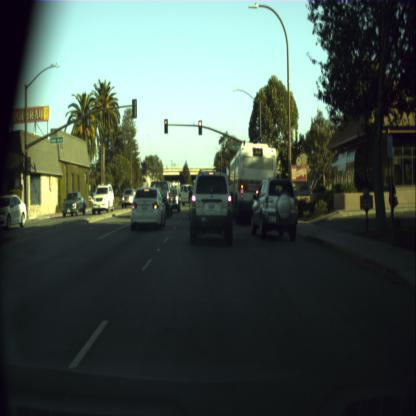Red: (198, 120, 202, 134)
RedLeft: (164, 118, 168, 134)
